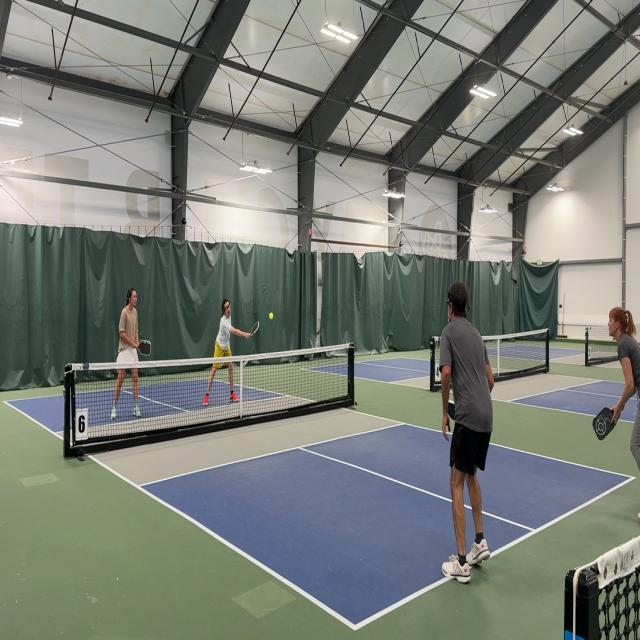ball: (268, 311, 274, 321)
